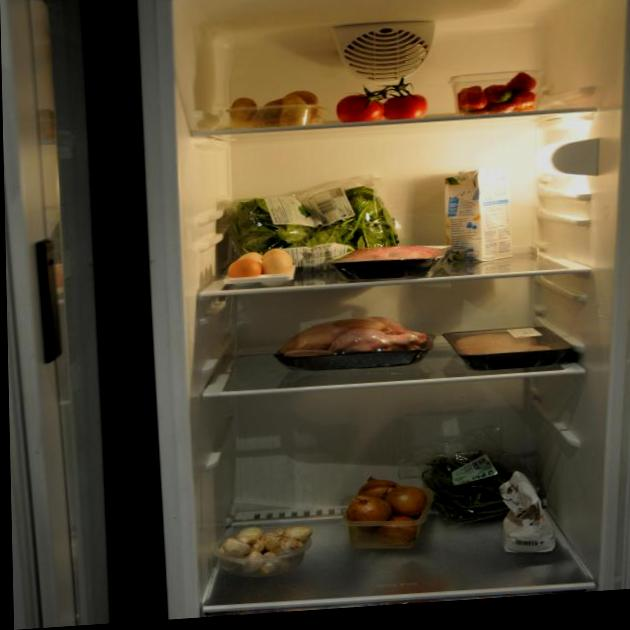chicken: (270, 311, 431, 375)
chicken_breast: (453, 328, 560, 366)
eggs: (224, 246, 291, 284)
flour: (494, 465, 558, 555)
green_beans: (416, 446, 543, 529)
ground_beef: (359, 240, 478, 281)
milk: (443, 164, 516, 265)
mushrooms: (214, 521, 311, 577)
onion: (341, 472, 425, 551)
potato: (231, 89, 321, 131)
spinach: (221, 179, 402, 277)
strawberries: (454, 71, 538, 118)
tomato: (332, 77, 431, 126)
